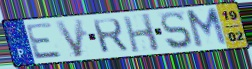E: (23, 21, 64, 61)
H: (121, 12, 162, 53)
M: (183, 6, 230, 50)
R: (91, 17, 131, 55)
S: (158, 10, 194, 50)
V: (53, 17, 85, 59)
